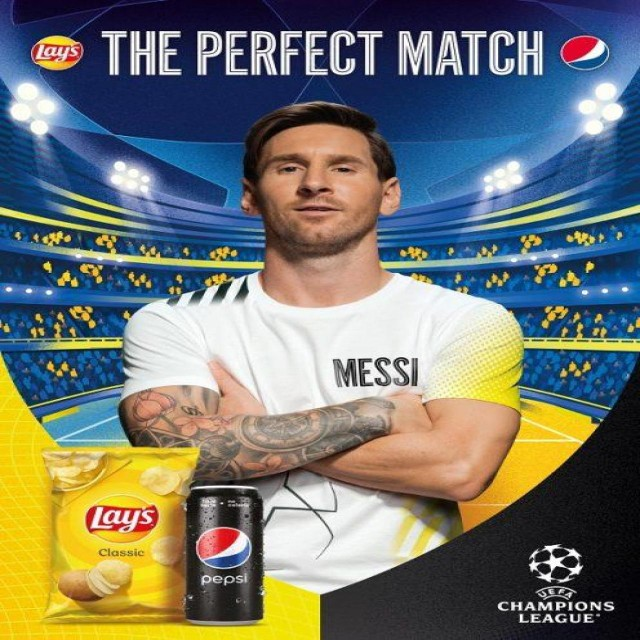pepsi: (195, 527, 256, 572), (560, 34, 612, 73)
